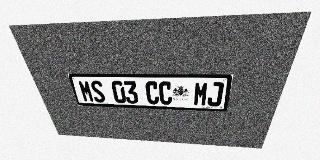0: (111, 81, 126, 103)
3: (123, 81, 139, 104)
C: (145, 81, 159, 104), (159, 81, 172, 105)
J: (207, 82, 224, 107)
M: (77, 80, 95, 102), (193, 82, 209, 106)
S: (89, 80, 106, 103)
